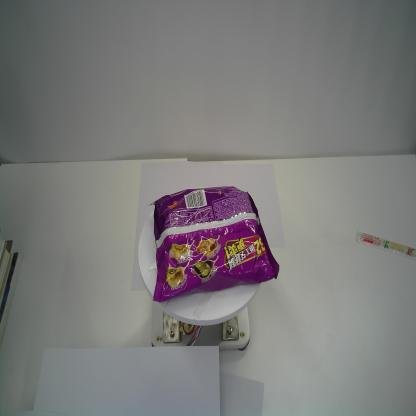Instant Noodles: (148, 184, 280, 304)
